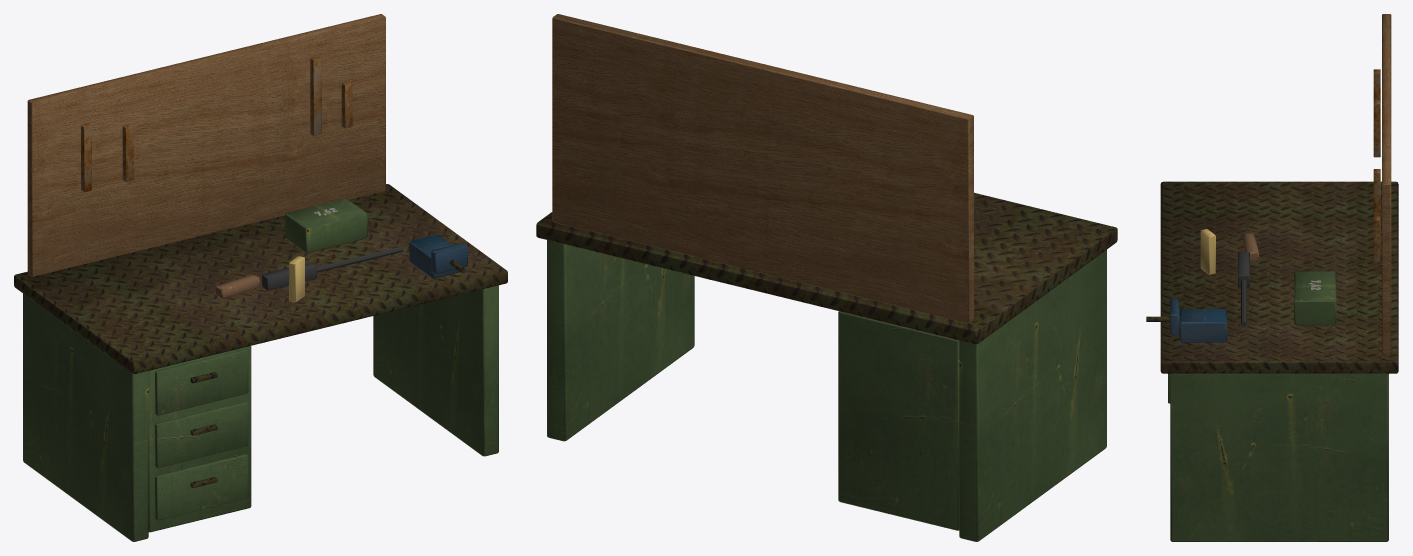
The model's file is deploy_guntable.glb.
3 renders of one model, left to right at view 1: azimuth 30°, elevation 25°; view 2: azimuth 150°, elevation 25°; view 3: azimuth 270°, elevation 25°, orthographic. The views are drawn at different scales.
Parts seen in each view (by area): view 1: box.010, box, box.001, box.002, box.003, box.004, box.008, box.006, box.020, box.015, box.013, box.016 (+5 smaller); view 2: box.010, box.001, box.003, box.002, box; view 3: box, box.002, box.010, box.020, box.015, box.019, box.012, box.017, box.013, box.014, box.016, box.018.
Boxes of the visible parts, x1,y1,x2,y2 form: box.010: (27, 14, 385, 276); box: (14, 184, 507, 373); box.001: (23, 293, 148, 541); box.002: (373, 285, 498, 456); box.003: (148, 346, 251, 532); box.004: (155, 454, 248, 520); box.008: (155, 349, 248, 415); box.006: (155, 402, 248, 467); box.020: (285, 198, 367, 252); box.015: (409, 234, 459, 278); box.013: (310, 56, 321, 136); box.016: (431, 243, 467, 274); box.010: (552, 14, 973, 323); box.001: (959, 250, 1106, 541); box.003: (838, 311, 959, 530); box.002: (547, 240, 694, 441); box: (536, 192, 1117, 344); box: (1160, 181, 1398, 373); box.002: (1170, 373, 1388, 541); box.010: (1382, 14, 1391, 355); box.020: (1294, 271, 1336, 325); box.015: (1179, 309, 1227, 342); box.019: (1200, 229, 1215, 274); box.012: (1373, 100, 1380, 157); box.017: (1238, 252, 1249, 287); box.013: (1373, 169, 1380, 216); box.014: (1373, 216, 1380, 262); box.016: (1170, 299, 1179, 335); box.018: (1243, 233, 1258, 262).
Bounding box in the file's own units: 1.8 × 1.65 × 1.06.
9 materials, 8 textured.
